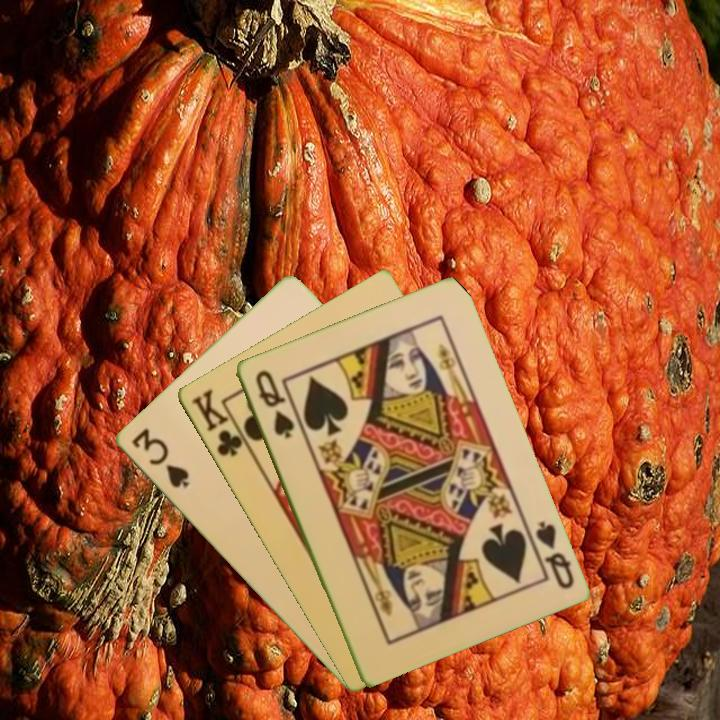3s: (127, 424, 192, 491)
Kc: (187, 384, 252, 460)
Qs: (523, 517, 577, 592), (251, 366, 297, 441)
